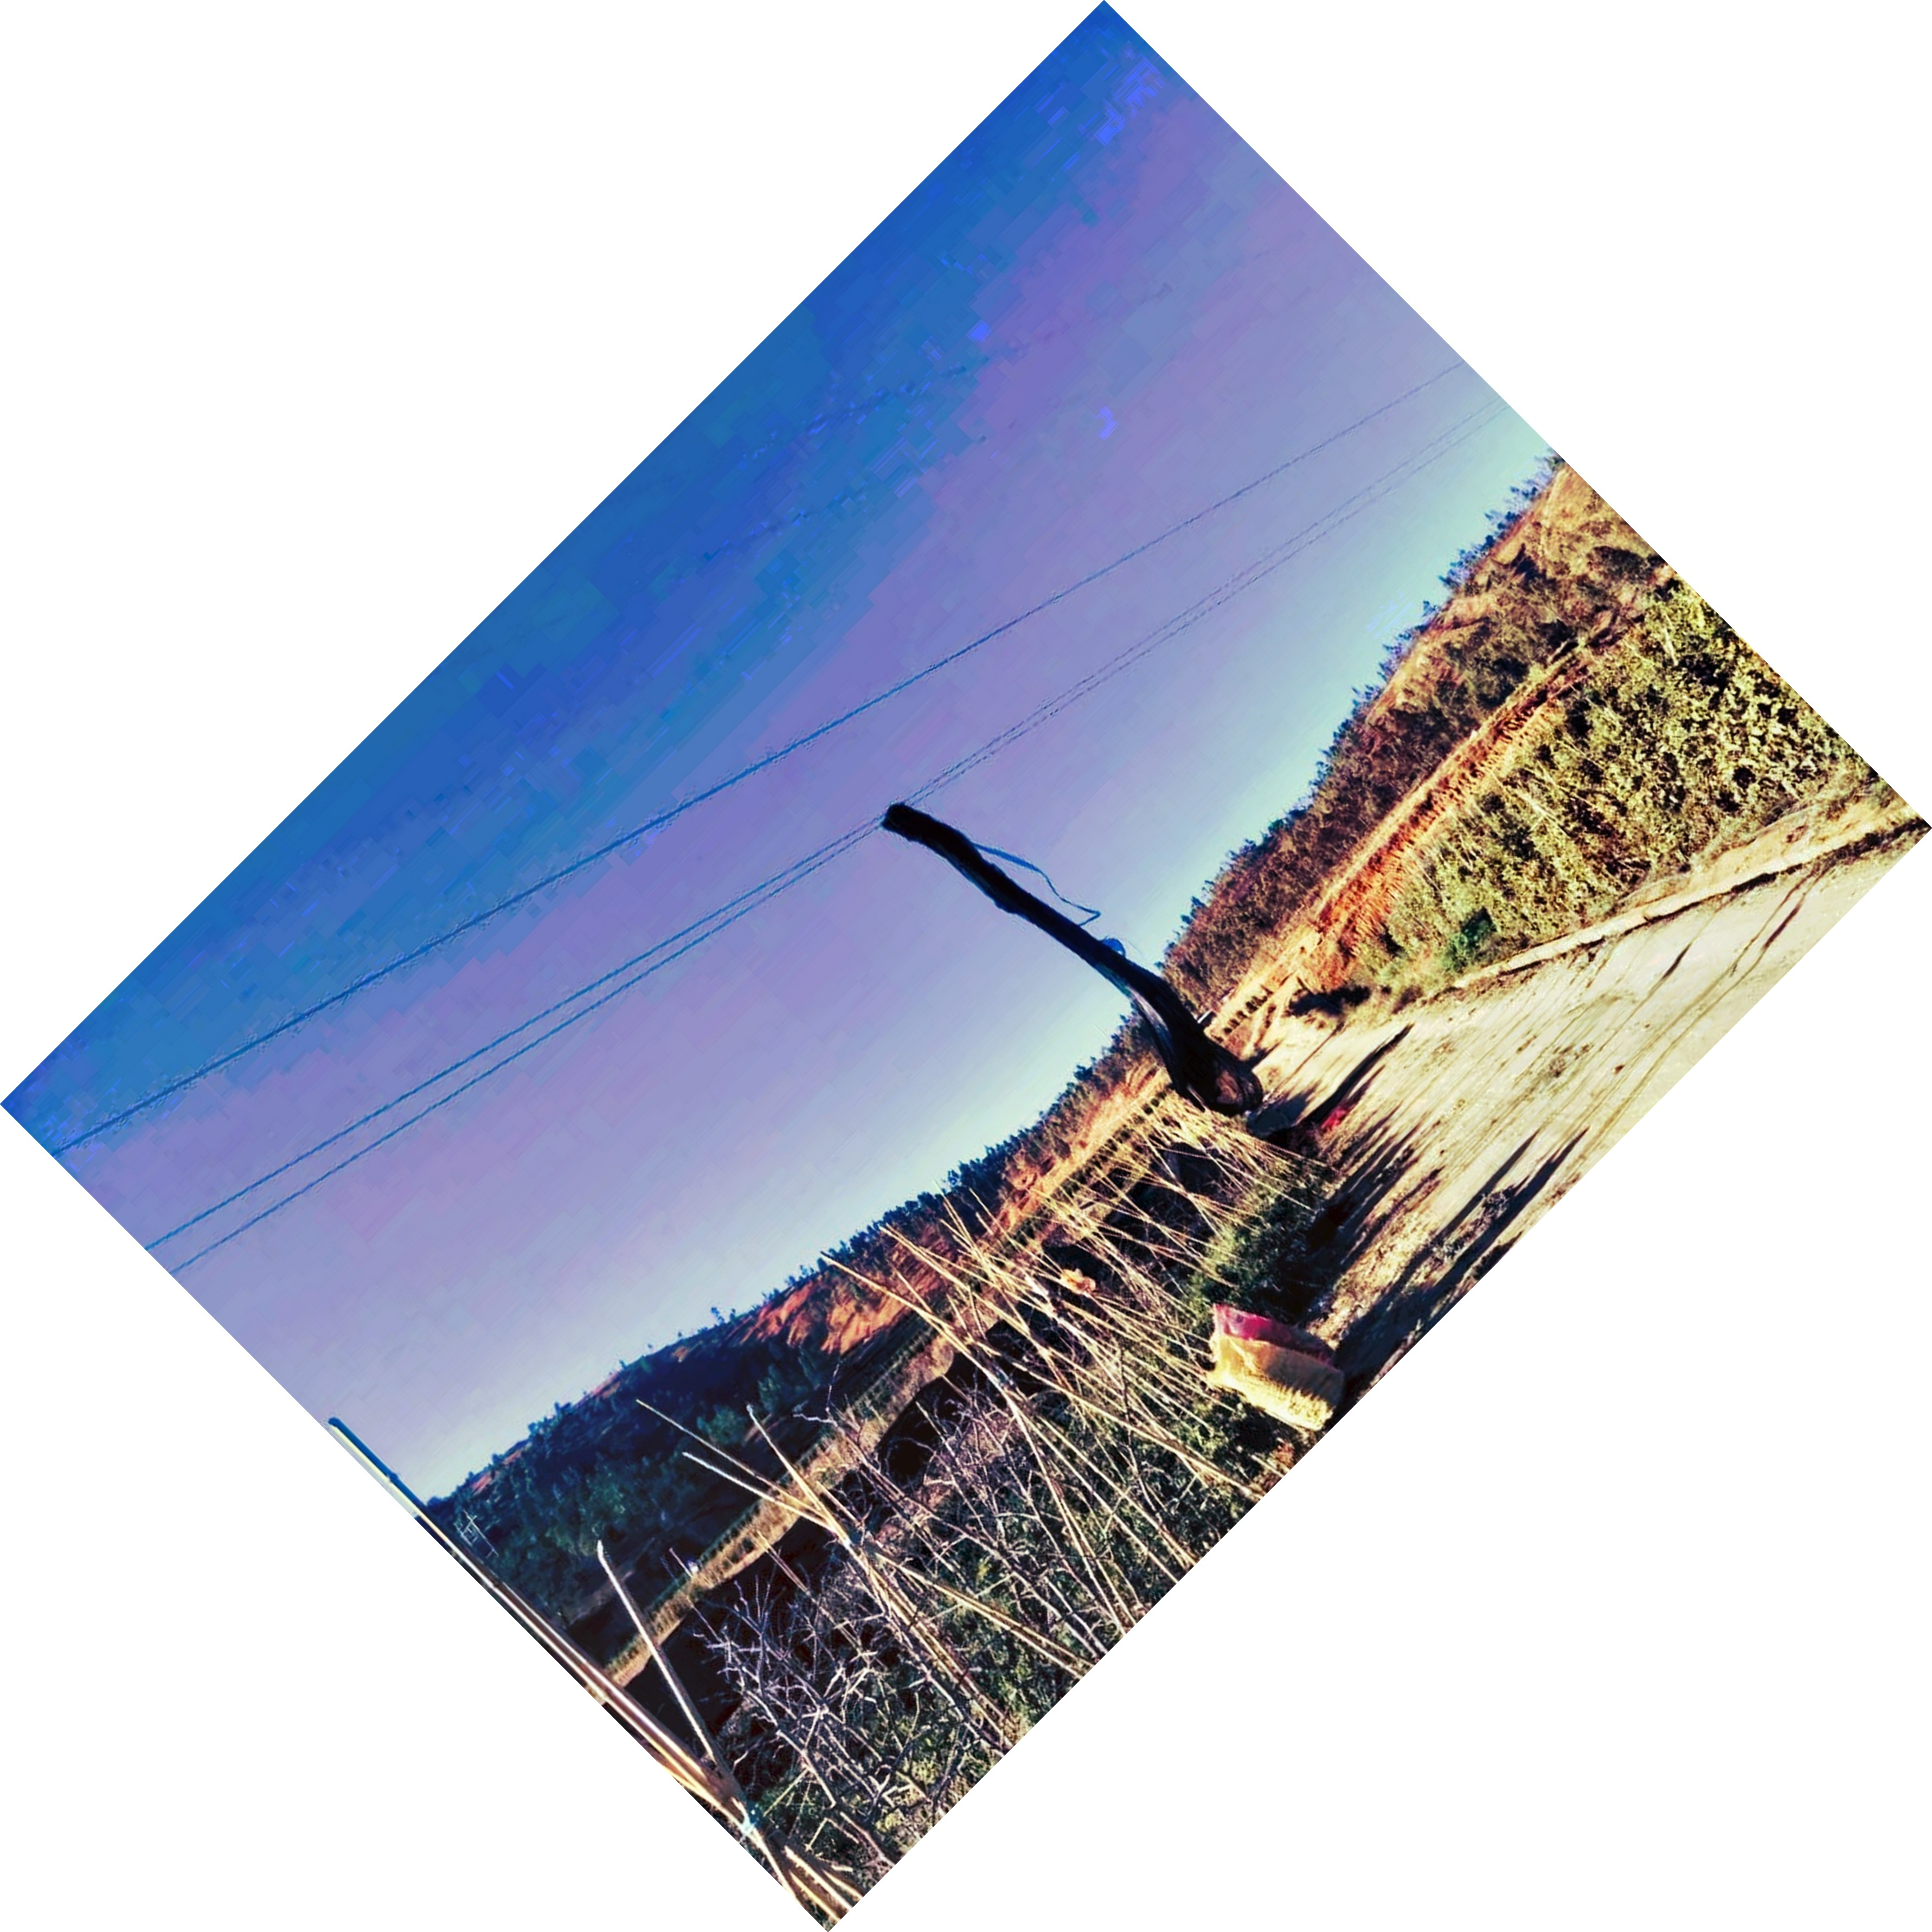wire foreign body: (876, 796, 1263, 1095)
